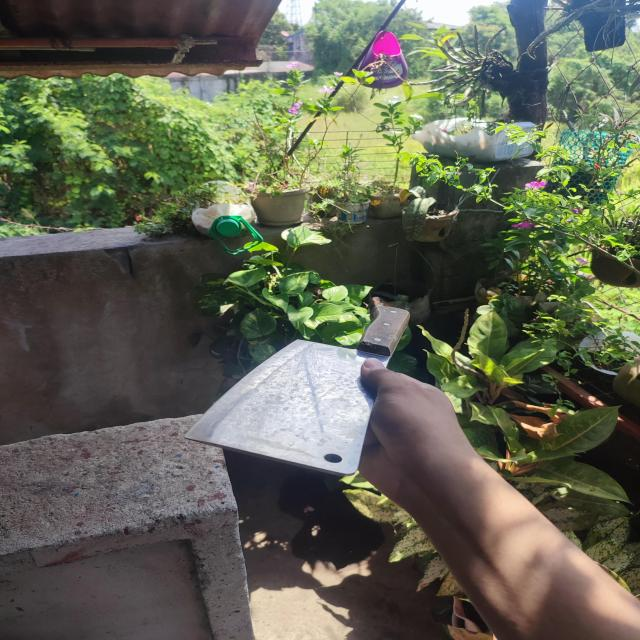knife: (184, 304, 409, 476)
